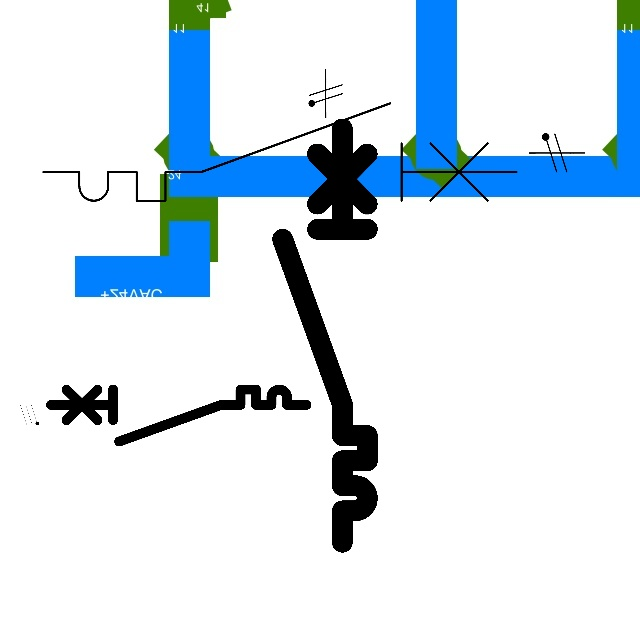interruptor_termomagnetico: (31, 91, 529, 213), (272, 118, 378, 553), (44, 383, 312, 448)
